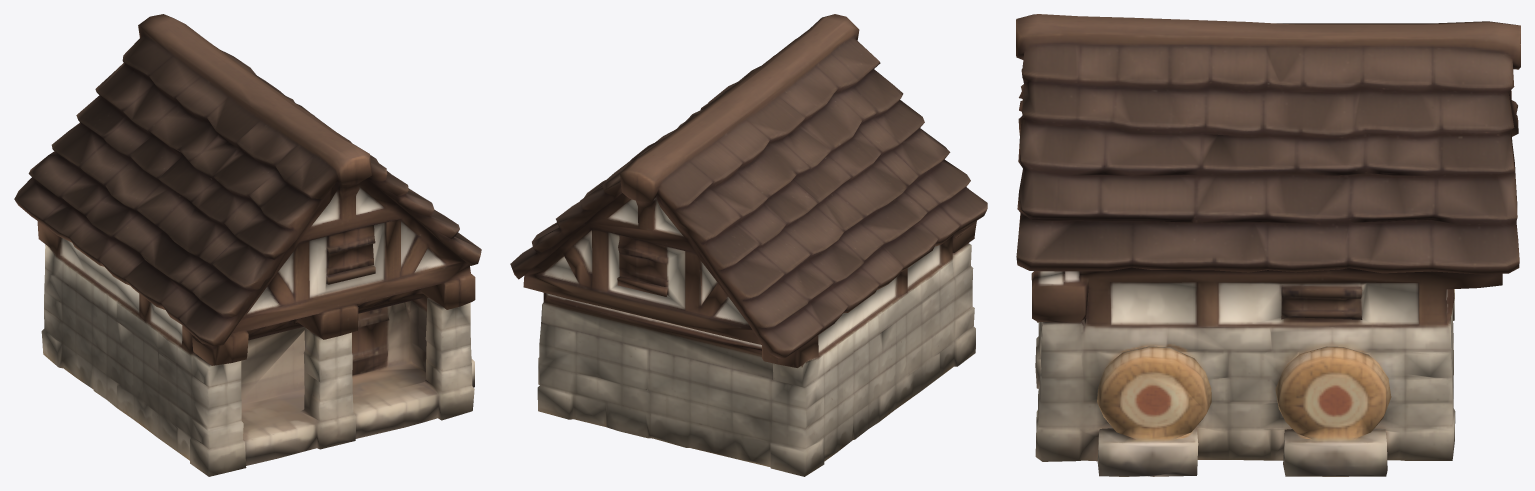
File: archery_range.glb
3 views of the same model, side by side, from view 1: azimuth 30°, elevation 25°; view 2: azimuth 150°, elevation 25°; view 3: azimuth 270°, elevation 25° (orthographic). The views are drawn at different scales.
Visible parts, largest first — view 1: geometry_0.001; view 2: geometry_0.001; view 3: geometry_0.001.
Boxes of the visible parts, x1,y1,x2,y2 form: geometry_0.001: [14, 14, 481, 476]; geometry_0.001: [510, 14, 987, 476]; geometry_0.001: [1016, 14, 1520, 476].
Size of the model in its own units: 1.73 by 1.6 by 1.99.
Materials: 1 (1 with a texture image).
